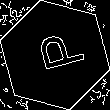P_W: (26, 30, 84, 80)
